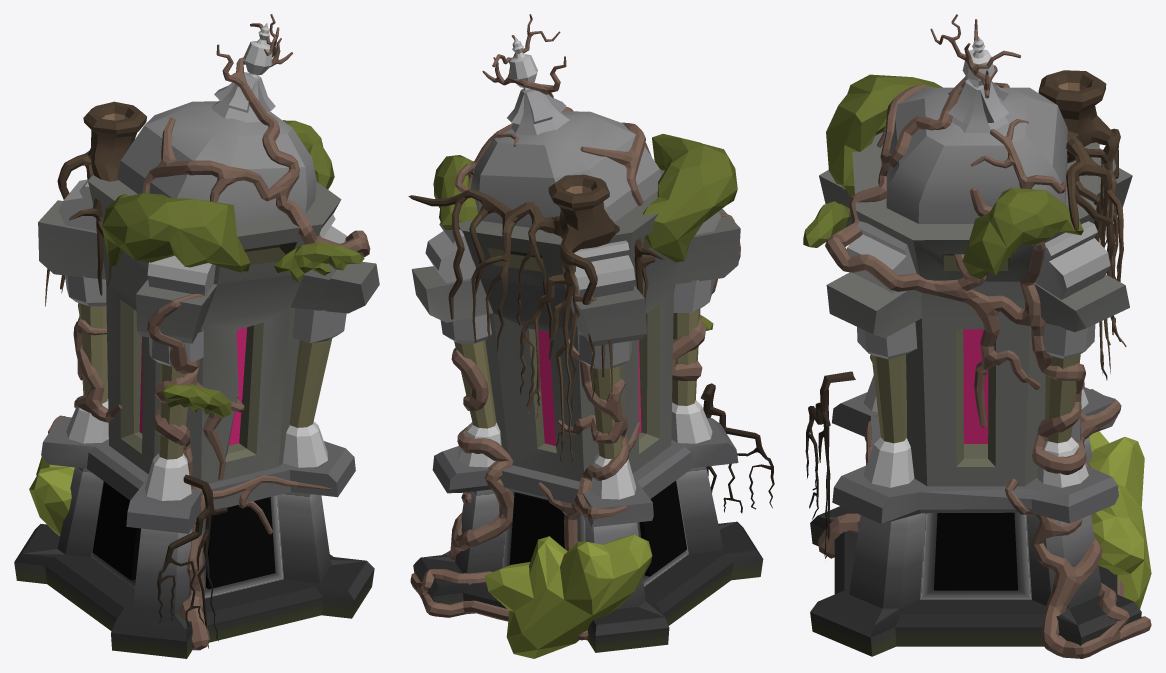
The model's file is ea_bld_monument_3b_pre_lev1.glb.
3 renders of one model, left to right at view 1: azimuth 30°, elevation 25°; view 2: azimuth 150°, elevation 25°; view 3: azimuth 270°, elevation 25°, orthographic. The views are drawn at different scales.
Visible parts, largest first — view 1: ea_bld_monument_3b_pre_lev1; view 2: ea_bld_monument_3b_pre_lev1; view 3: ea_bld_monument_3b_pre_lev1.
Part boxes in pixels (box(x1,y1,x2,y2)): ea_bld_monument_3b_pre_lev1: box(14, 14, 379, 658); ea_bld_monument_3b_pre_lev1: box(408, 14, 774, 658); ea_bld_monument_3b_pre_lev1: box(803, 14, 1151, 658).
Size of the model in its own units: 10.33 by 20.74 by 10.21.
Materials: 2 (1 with a texture image).
